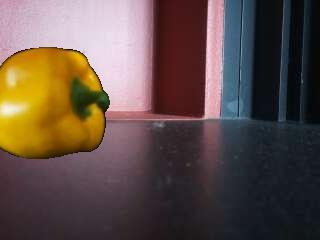Capsicum: (1, 47, 112, 161)
